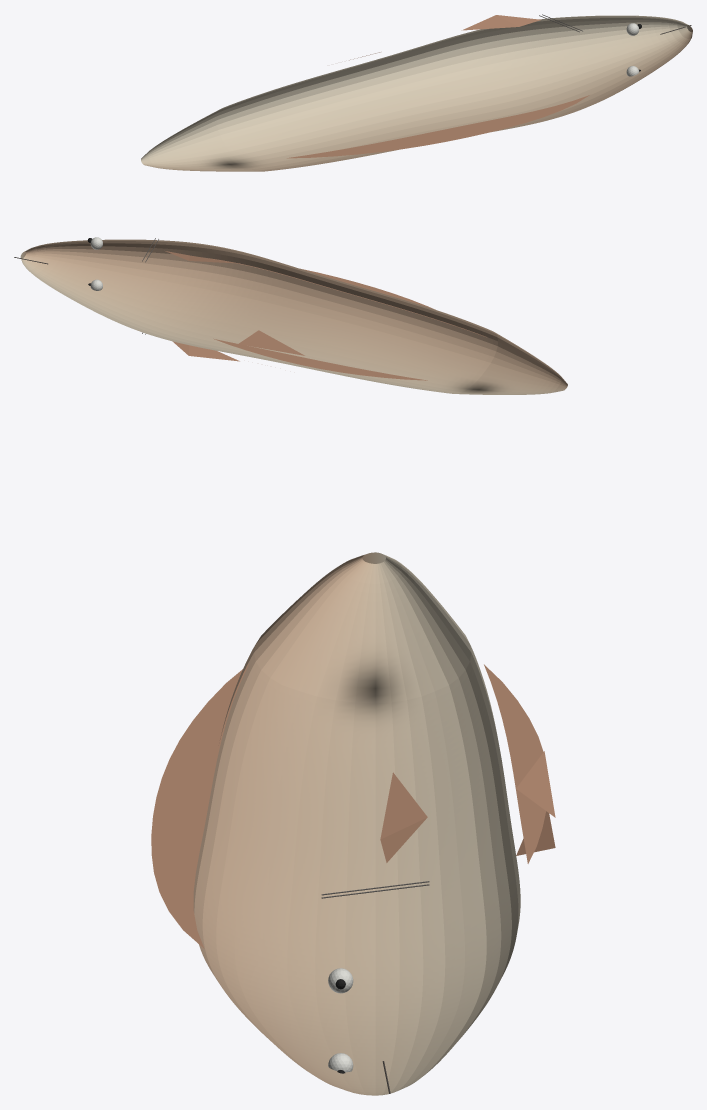
The model's file is red_drum_redfish_realistic_generated.glb.
3 renders of one model, top to bottom at view 1: azimuth 30°, elevation 25°; view 2: azimuth 150°, elevation 25°; view 3: azimuth 270°, elevation 25°, orthographic. The views are drawn at different scales.
Visible parts, largest first — view 1: world; view 2: world; view 3: world.
Part boxes in pixels (x1=…): world: x1=141, y1=14, x2=692, y2=171; world: x1=14, y1=237, x2=567, y2=394; world: x1=151, y1=552, x2=555, y2=1095.
Size of the model in its own units: 3.57 by 0.5183 by 0.9698.
